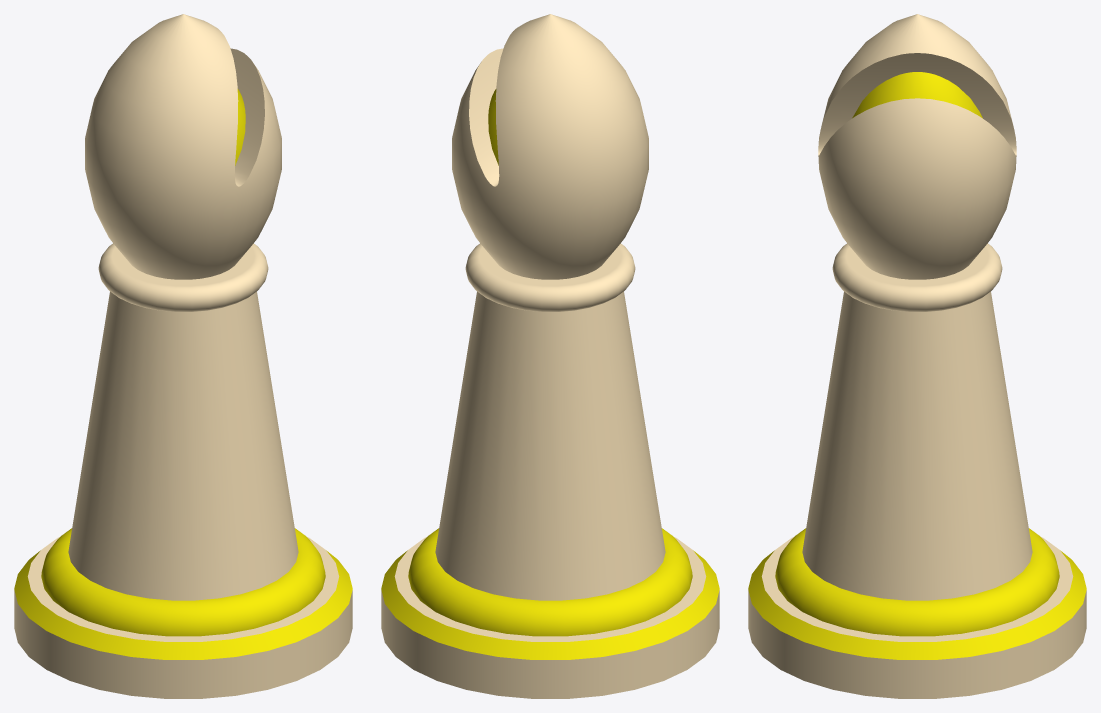
Rendered from Premium_W_Bishop.gltf.
3 views of the same model, side by side, from view 1: azimuth 30°, elevation 25°; view 2: azimuth 150°, elevation 25°; view 3: azimuth 270°, elevation 25° (orthographic).
Parts seen in each view (by area): view 1: Bishop; view 2: Bishop; view 3: Bishop.
Boxes of the visible parts, box(x1,y1,x2,y2) form: Bishop: box(14, 14, 352, 698); Bishop: box(381, 14, 719, 698); Bishop: box(748, 14, 1086, 698).
Bounding box in the file's own units: 0.0284 × 0.0571 × 0.0286.
